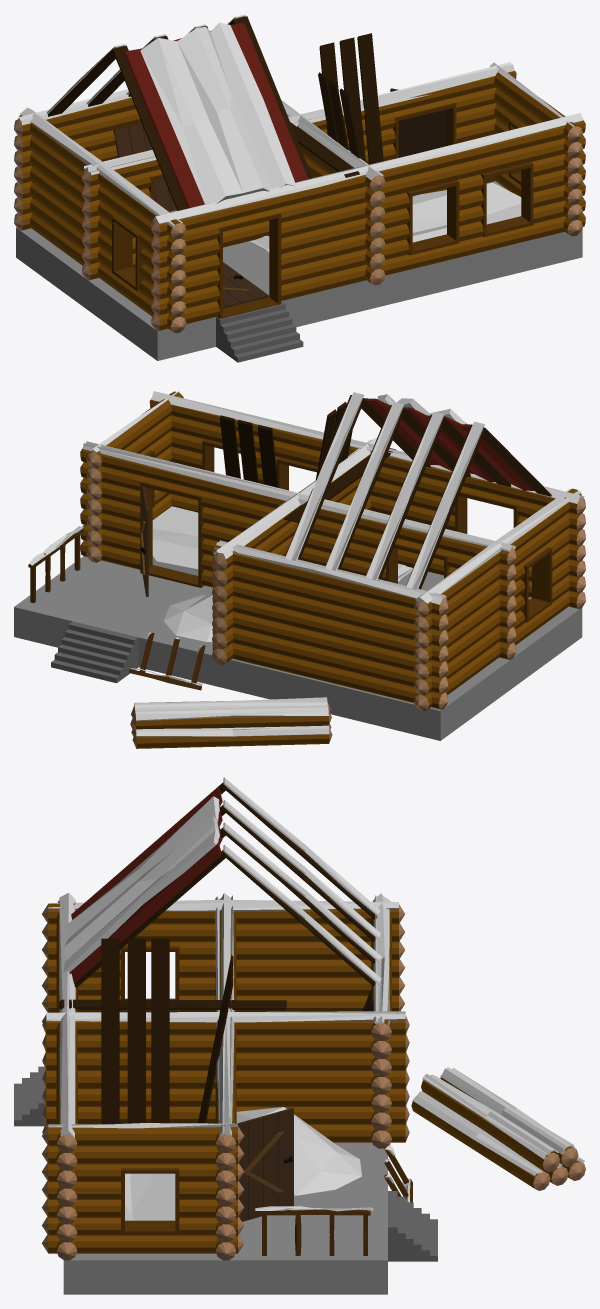
File: House_08.fbx
The picture shows the model from 3 angles, top to bottom: view 1: azimuth 30°, elevation 25°; view 2: azimuth 150°, elevation 25°; view 3: azimuth 270°, elevation 25°; orthographic projection. The views are drawn at different scales.
Visible parts, largest first — view 1: House_08_Detail_02, House_08_Snow, House_08_Detail_01, House_08_Roof_Detail_01, House_08_Windows_Detail_01, House_08_Roof_Detail_02, House_08_Stairs, House_08_Door_Detail_04, House_08_Door_Detail_02.002, House_08_Door_Detail_02.001, House_08_Door_Detail_02; view 2: House_08_Detail_02, House_08_Snow, House_08_Detail_01, House_08_Roof_Detail_01, House_08_Detail_03, House_08_Stairs, House_08_Door_Detail_04, House_08_Windows_Detail_01, House_08_Roof_Detail_02, House_08_Detail_04, House_08_Door_Detail_02.002; view 3: House_08_Detail_02, House_08_Snow, House_08_Detail_01, House_08_Roof_Detail_01, House_08_Door_Detail_02.002, House_08_Stairs, House_08_Detail_03, House_08_Roof_Detail_02, House_08_Windows_Detail_01, House_08_Detail_04.
Boxes of the visible parts, <box> form: House_08_Detail_02: <box>14,66,585,333</box>; House_08_Snow: <box>17,14,583,252</box>; House_08_Detail_01: <box>16,181,582,360</box>; House_08_Roof_Detail_01: <box>48,16,383,210</box>; House_08_Windows_Detail_01: <box>112,119,533,291</box>; House_08_Roof_Detail_02: <box>123,22,308,208</box>; House_08_Stairs: <box>216,301,303,362</box>; House_08_Door_Detail_04: <box>148,103,456,318</box>; House_08_Door_Detail_02.002: <box>390,88,445,157</box>; House_08_Door_Detail_02.001: <box>113,123,176,211</box>; House_08_Door_Detail_02: <box>223,262,268,308</box>; House_08_Detail_02: <box>80,391,585,711</box>; House_08_Snow: <box>28,391,584,736</box>; House_08_Detail_01: <box>14,556,582,740</box>; House_08_Roof_Detail_01: <box>220,395,551,589</box>; House_08_Detail_03: <box>130,701,332,748</box>; House_08_Stairs: <box>51,621,138,683</box>; House_08_Door_Detail_04: <box>140,482,519,587</box>; House_08_Windows_Detail_01: <box>144,439,552,622</box>; House_08_Roof_Detail_02: <box>365,398,534,490</box>; House_08_Detail_04: <box>28,528,205,690</box>; House_08_Door_Detail_02.002: <box>142,485,148,596</box>; House_08_Detail_02: <box>42,898,409,1260</box>; House_08_Snow: <box>46,777,584,1220</box>; House_08_Detail_01: <box>63,1142,387,1294</box>; House_08_Roof_Detail_01: <box>59,782,376,1124</box>; House_08_Door_Detail_02.002: <box>237,1107,293,1221</box>; House_08_Stairs: <box>14,1066,437,1261</box>; House_08_Detail_03: <box>411,1077,585,1190</box>; House_08_Roof_Detail_02: <box>69,787,222,983</box>; House_08_Windows_Detail_01: <box>56,946,179,1234</box>; House_08_Detail_04: <box>255,1145,412,1255</box>.
Size of the model in its own units: 576 by 329 by 572.
